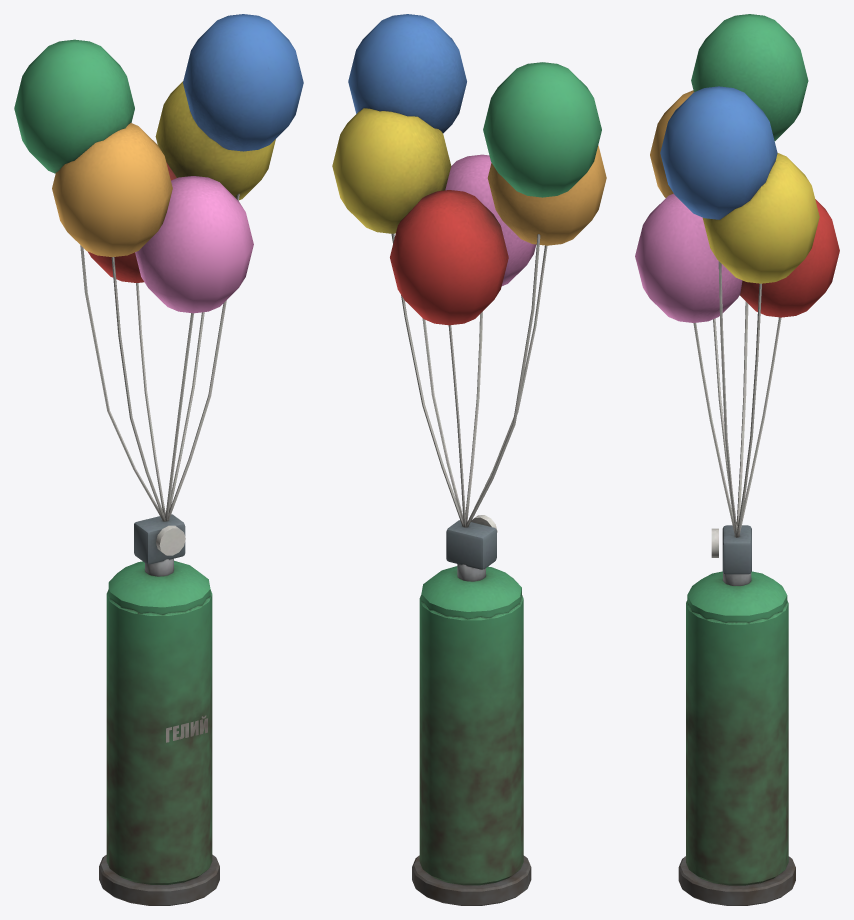
Rendered from g67_pz_gas_balloon.glb.
3 renders of one model, left to right at view 1: azimuth 30°, elevation 25°; view 2: azimuth 150°, elevation 25°; view 3: azimuth 270°, elevation 25°, orthographic. The views are drawn at different scales.
Visible parts, largest first — view 1: g67_pz_gas_balloon; view 2: g67_pz_gas_balloon; view 3: g67_pz_gas_balloon.
Boxes of the visible parts, left/top/right/bottom form: g67_pz_gas_balloon: left=14, top=14, right=303, bottom=905; g67_pz_gas_balloon: left=332, top=14, right=606, bottom=905; g67_pz_gas_balloon: left=635, top=14, right=839, bottom=905.
Bounding box in the file's own units: 0.7871 × 2.49 × 0.5588.
1 material, 1 textured.
